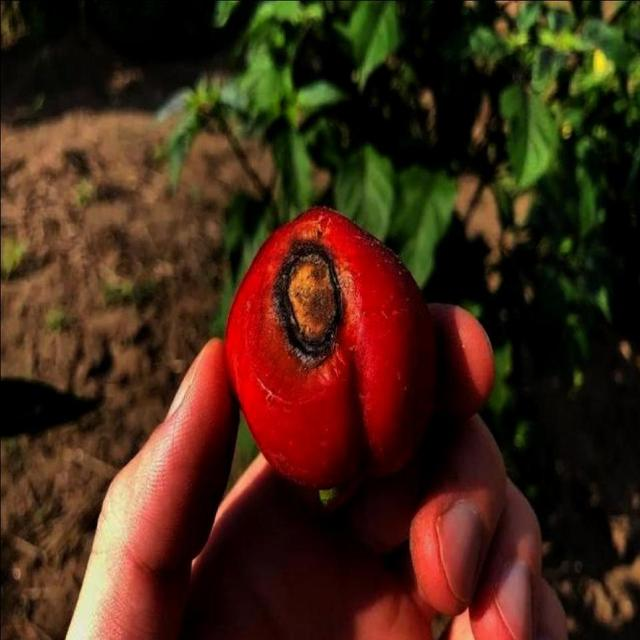Blossom End Rot Fruit: (163, 149, 232, 258)
